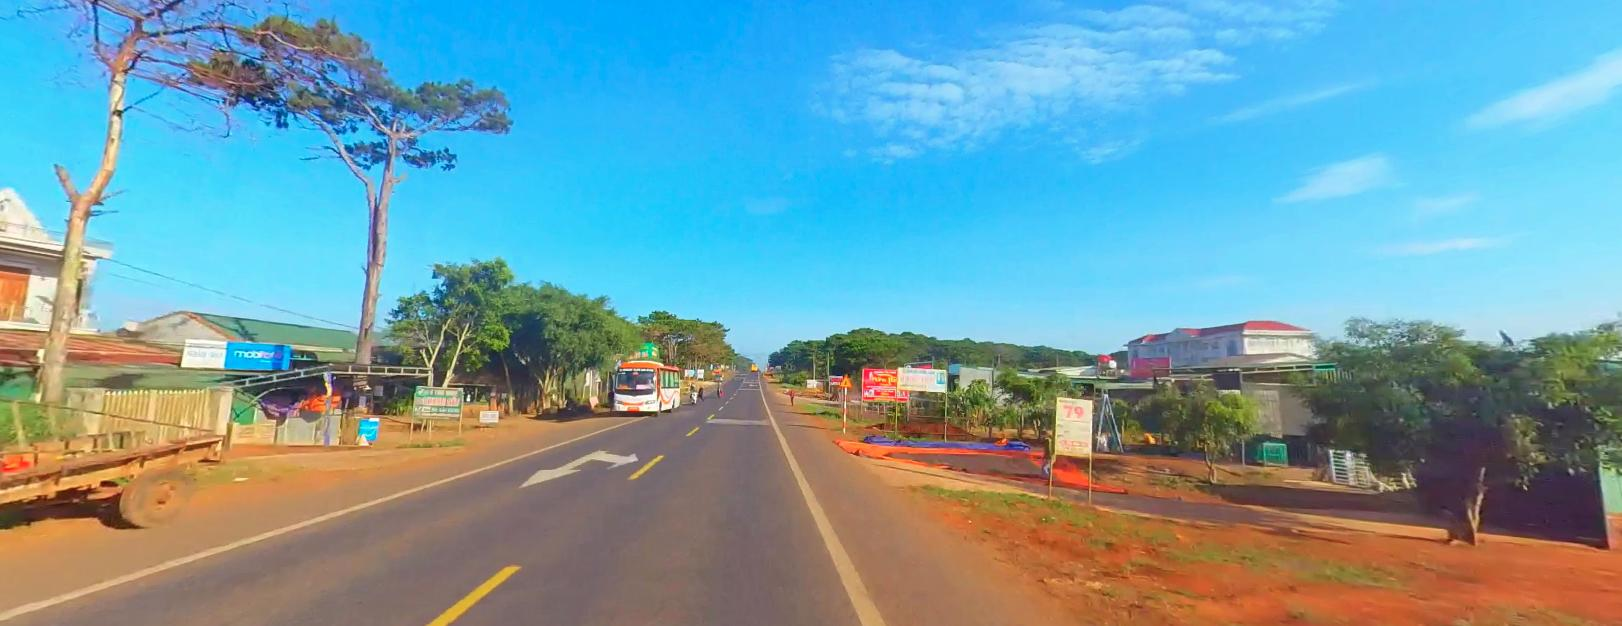Nguy hiem: (838, 372, 852, 386)
